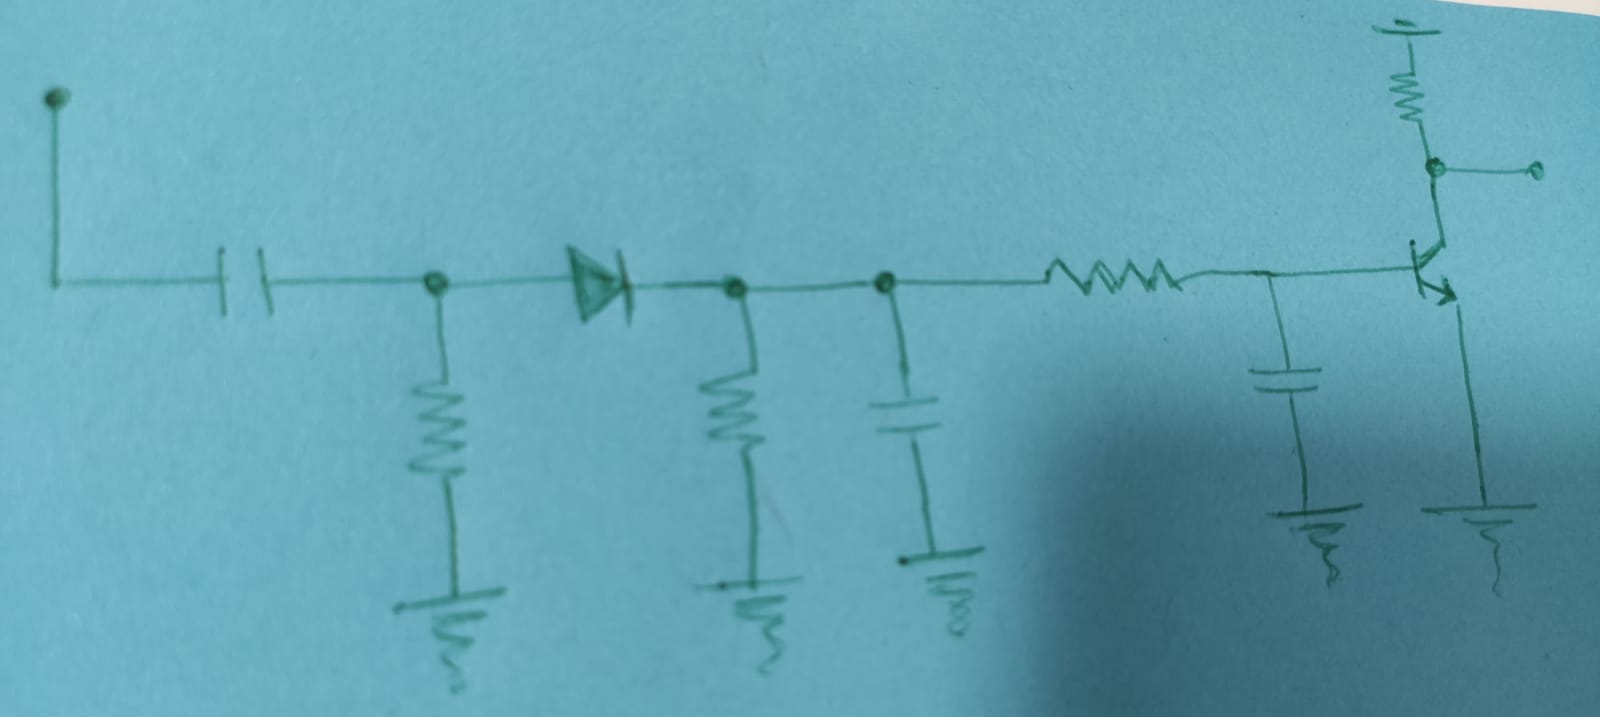capacitor.unpolarized: (210, 245, 276, 314), (869, 383, 947, 439), (1246, 363, 1324, 402)
diode: (561, 247, 637, 323)
gnd: (391, 576, 508, 699), (1418, 492, 1541, 597), (692, 566, 802, 677), (1261, 495, 1365, 591), (896, 540, 991, 639)
junction: (713, 270, 766, 306), (863, 265, 913, 300), (415, 265, 462, 302), (40, 256, 79, 300), (1421, 150, 1456, 185), (1251, 261, 1283, 295)
resistor: (407, 369, 473, 486), (1035, 255, 1179, 294), (701, 363, 764, 451), (1388, 65, 1431, 127)
terminal: (41, 85, 78, 120), (1517, 156, 1554, 184)
transistor: (1404, 231, 1466, 308)
voltage.dc: (1370, 13, 1447, 44)
